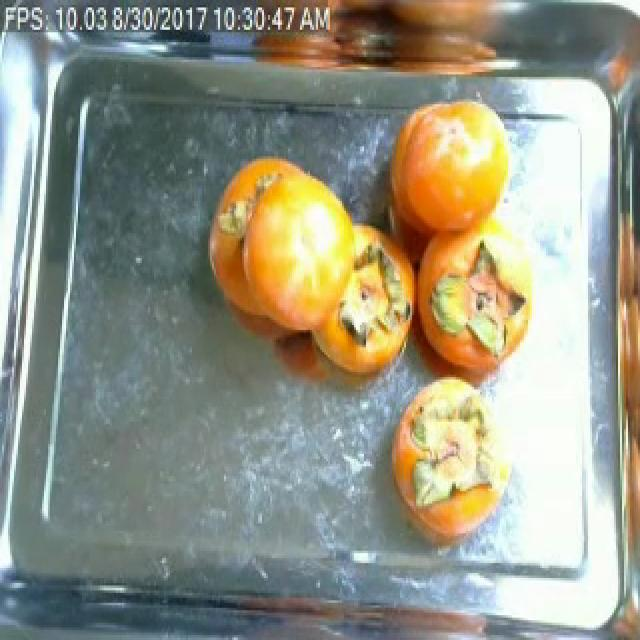Fruit: (196, 142, 376, 342), (374, 80, 524, 250), (412, 469, 510, 565)
